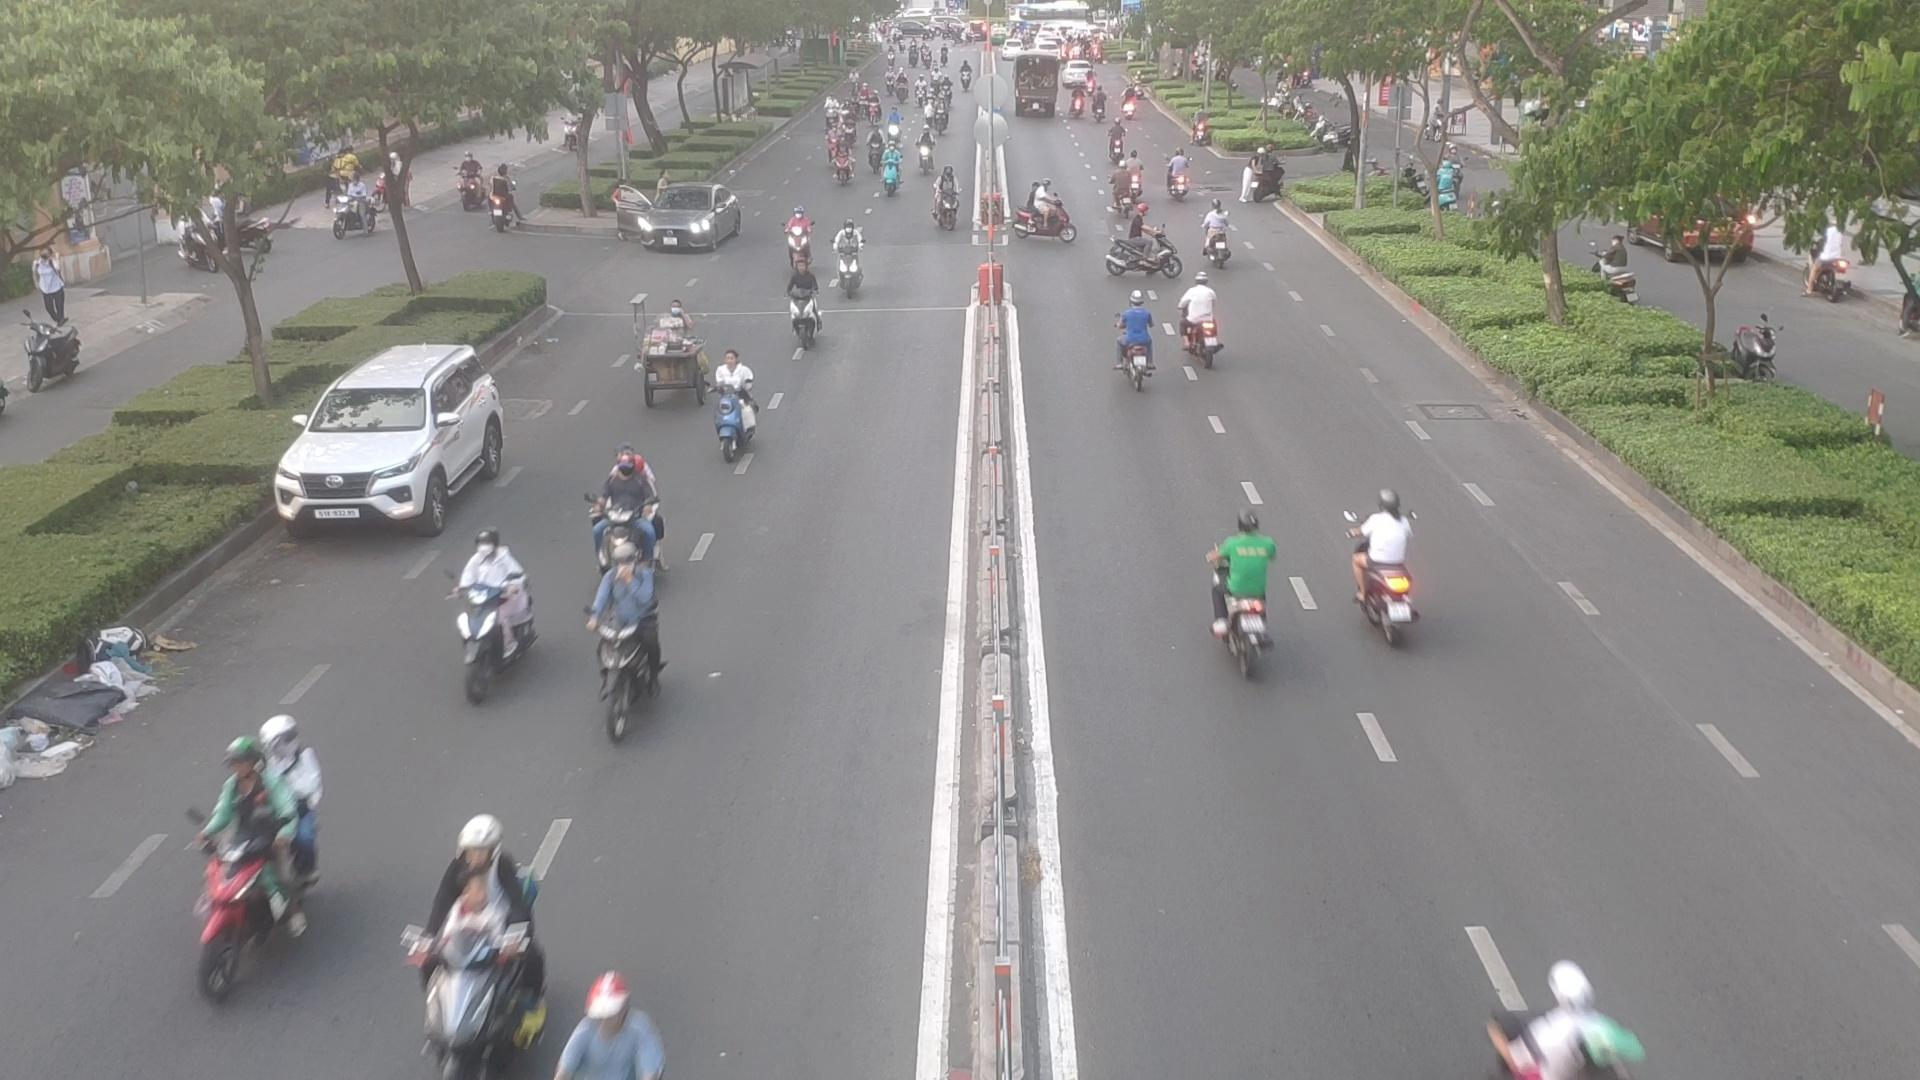car: (269, 342, 512, 535), (615, 186, 749, 258)
motorbike: (417, 808, 537, 1080), (196, 709, 314, 980), (593, 534, 665, 757), (1201, 502, 1287, 669), (1349, 473, 1433, 634), (454, 582, 535, 699), (702, 344, 774, 460), (584, 440, 666, 543), (1102, 199, 1182, 297), (1114, 291, 1164, 400), (1193, 186, 1244, 284), (1014, 181, 1073, 258), (781, 266, 827, 360), (1179, 261, 1226, 349), (833, 218, 874, 301), (931, 164, 960, 233), (777, 199, 814, 251), (1112, 160, 1139, 208), (1166, 154, 1191, 206)
